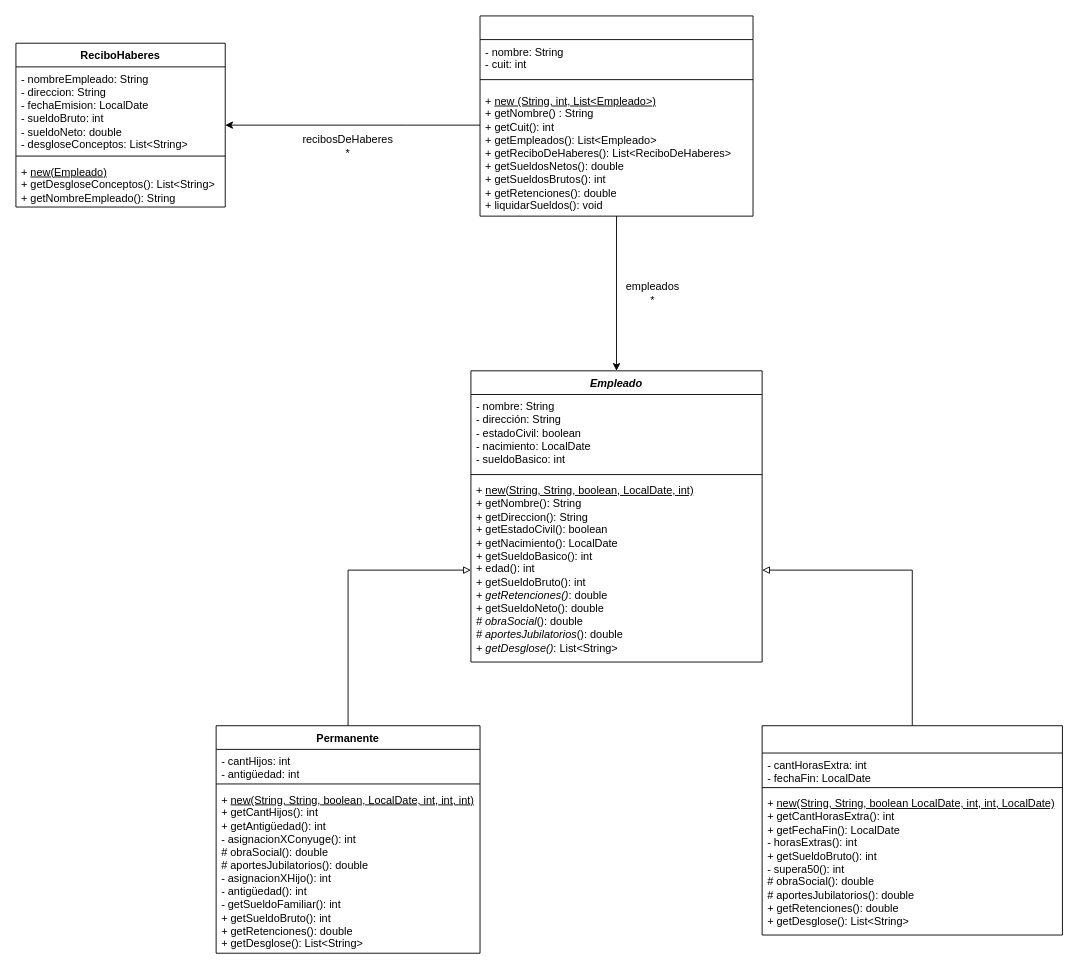
This 1078x972 diagram has some shape labels left out. The box of each missing label's shape, as (x1, y1, x2, y2) in pixels:
Empresa: (479, 15, 753, 216)
Temporaria: (761, 725, 1062, 935)
